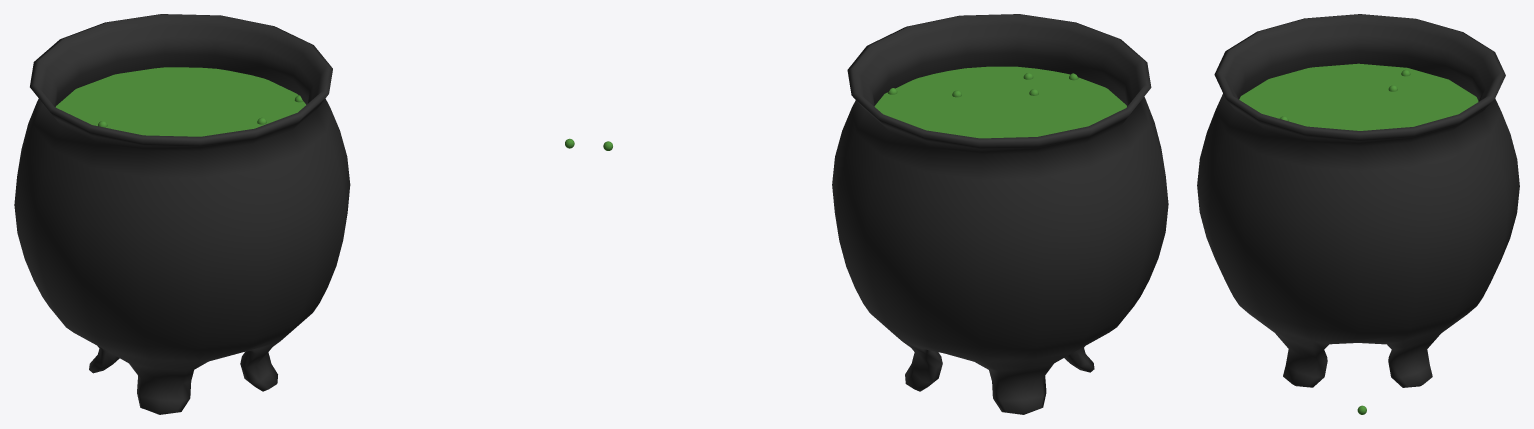
3 views of the same model, side by side, from view 1: azimuth 30°, elevation 25°; view 2: azimuth 150°, elevation 25°; view 3: azimuth 270°, elevation 25° (orthographic). The views are drawn at different scales.
Parts seen in each view (by area): view 1: Cube, 円; view 2: Cube, 円; view 3: Cube, 円.
Boxes of the visible parts, x1=… form: Cube: x1=14, y1=14, x2=350, y2=414; 円: x1=55, y1=67, x2=305, y2=136; Cube: x1=832, y1=14, x2=1168, y2=414; 円: x1=874, y1=66, x2=1126, y2=138; Cube: x1=1197, y1=14, x2=1519, y2=387; 円: x1=1239, y1=63, x2=1478, y2=130.
Size of the model in its own units: 598 by 319 by 324.
